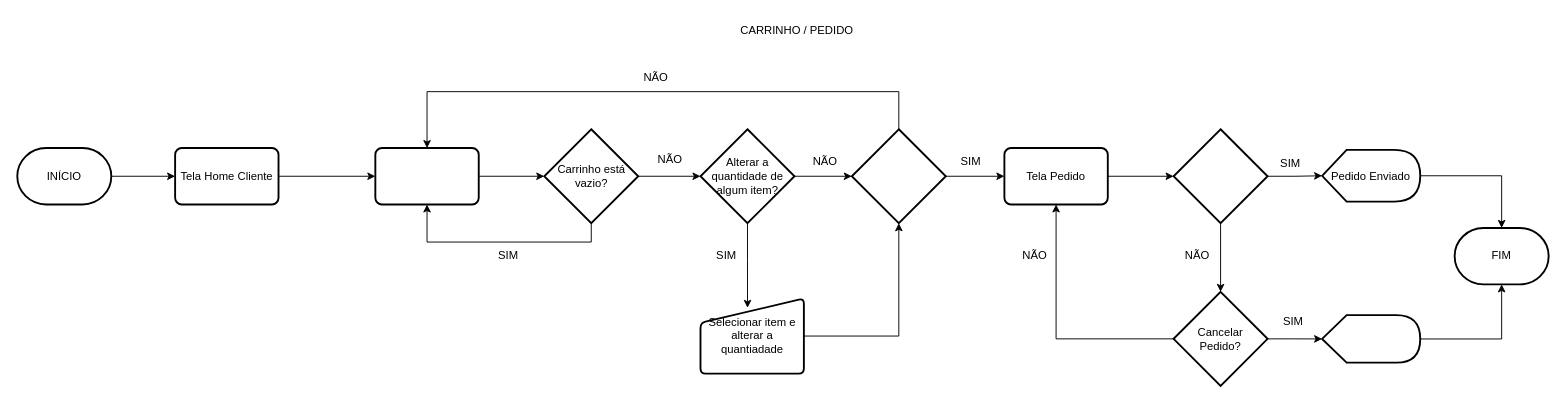
Some shapes in this 1566 by 402 pixel diagram are drawn without their labels. The centre of each missing label's shape, as x and y in pixels:
"Confirmar Pedido?" belongs at (x=1220, y=176).
"Fechar pedido?" belongs at (x=898, y=176).
"Pedido Cancelado" belongs at (x=1371, y=338).
"Tela Carrinho" belongs at (x=426, y=176).
